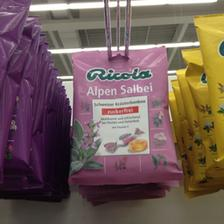Suessigkeit: (64, 46, 179, 184)
